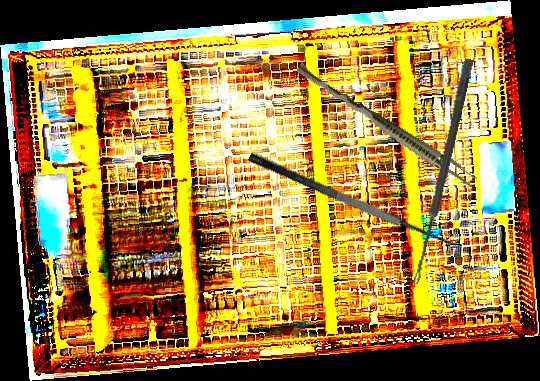Spatula Surgical: (246, 133, 466, 259)
Surgical Spoon: (411, 57, 474, 286)
Tissue Forceps: (291, 61, 481, 190)
